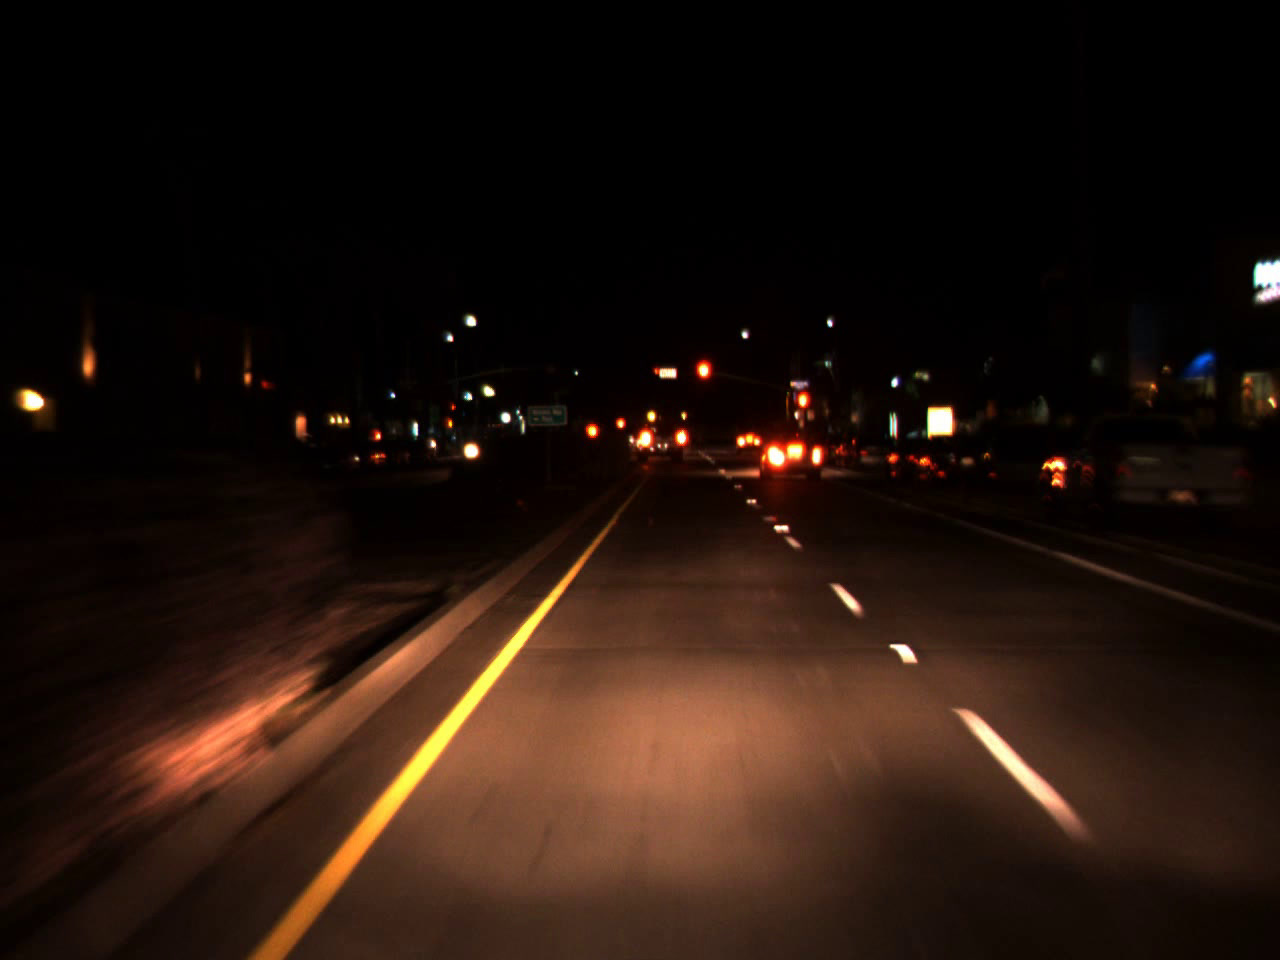stop: (693, 358, 714, 401), (795, 388, 813, 431), (653, 367, 660, 383)
